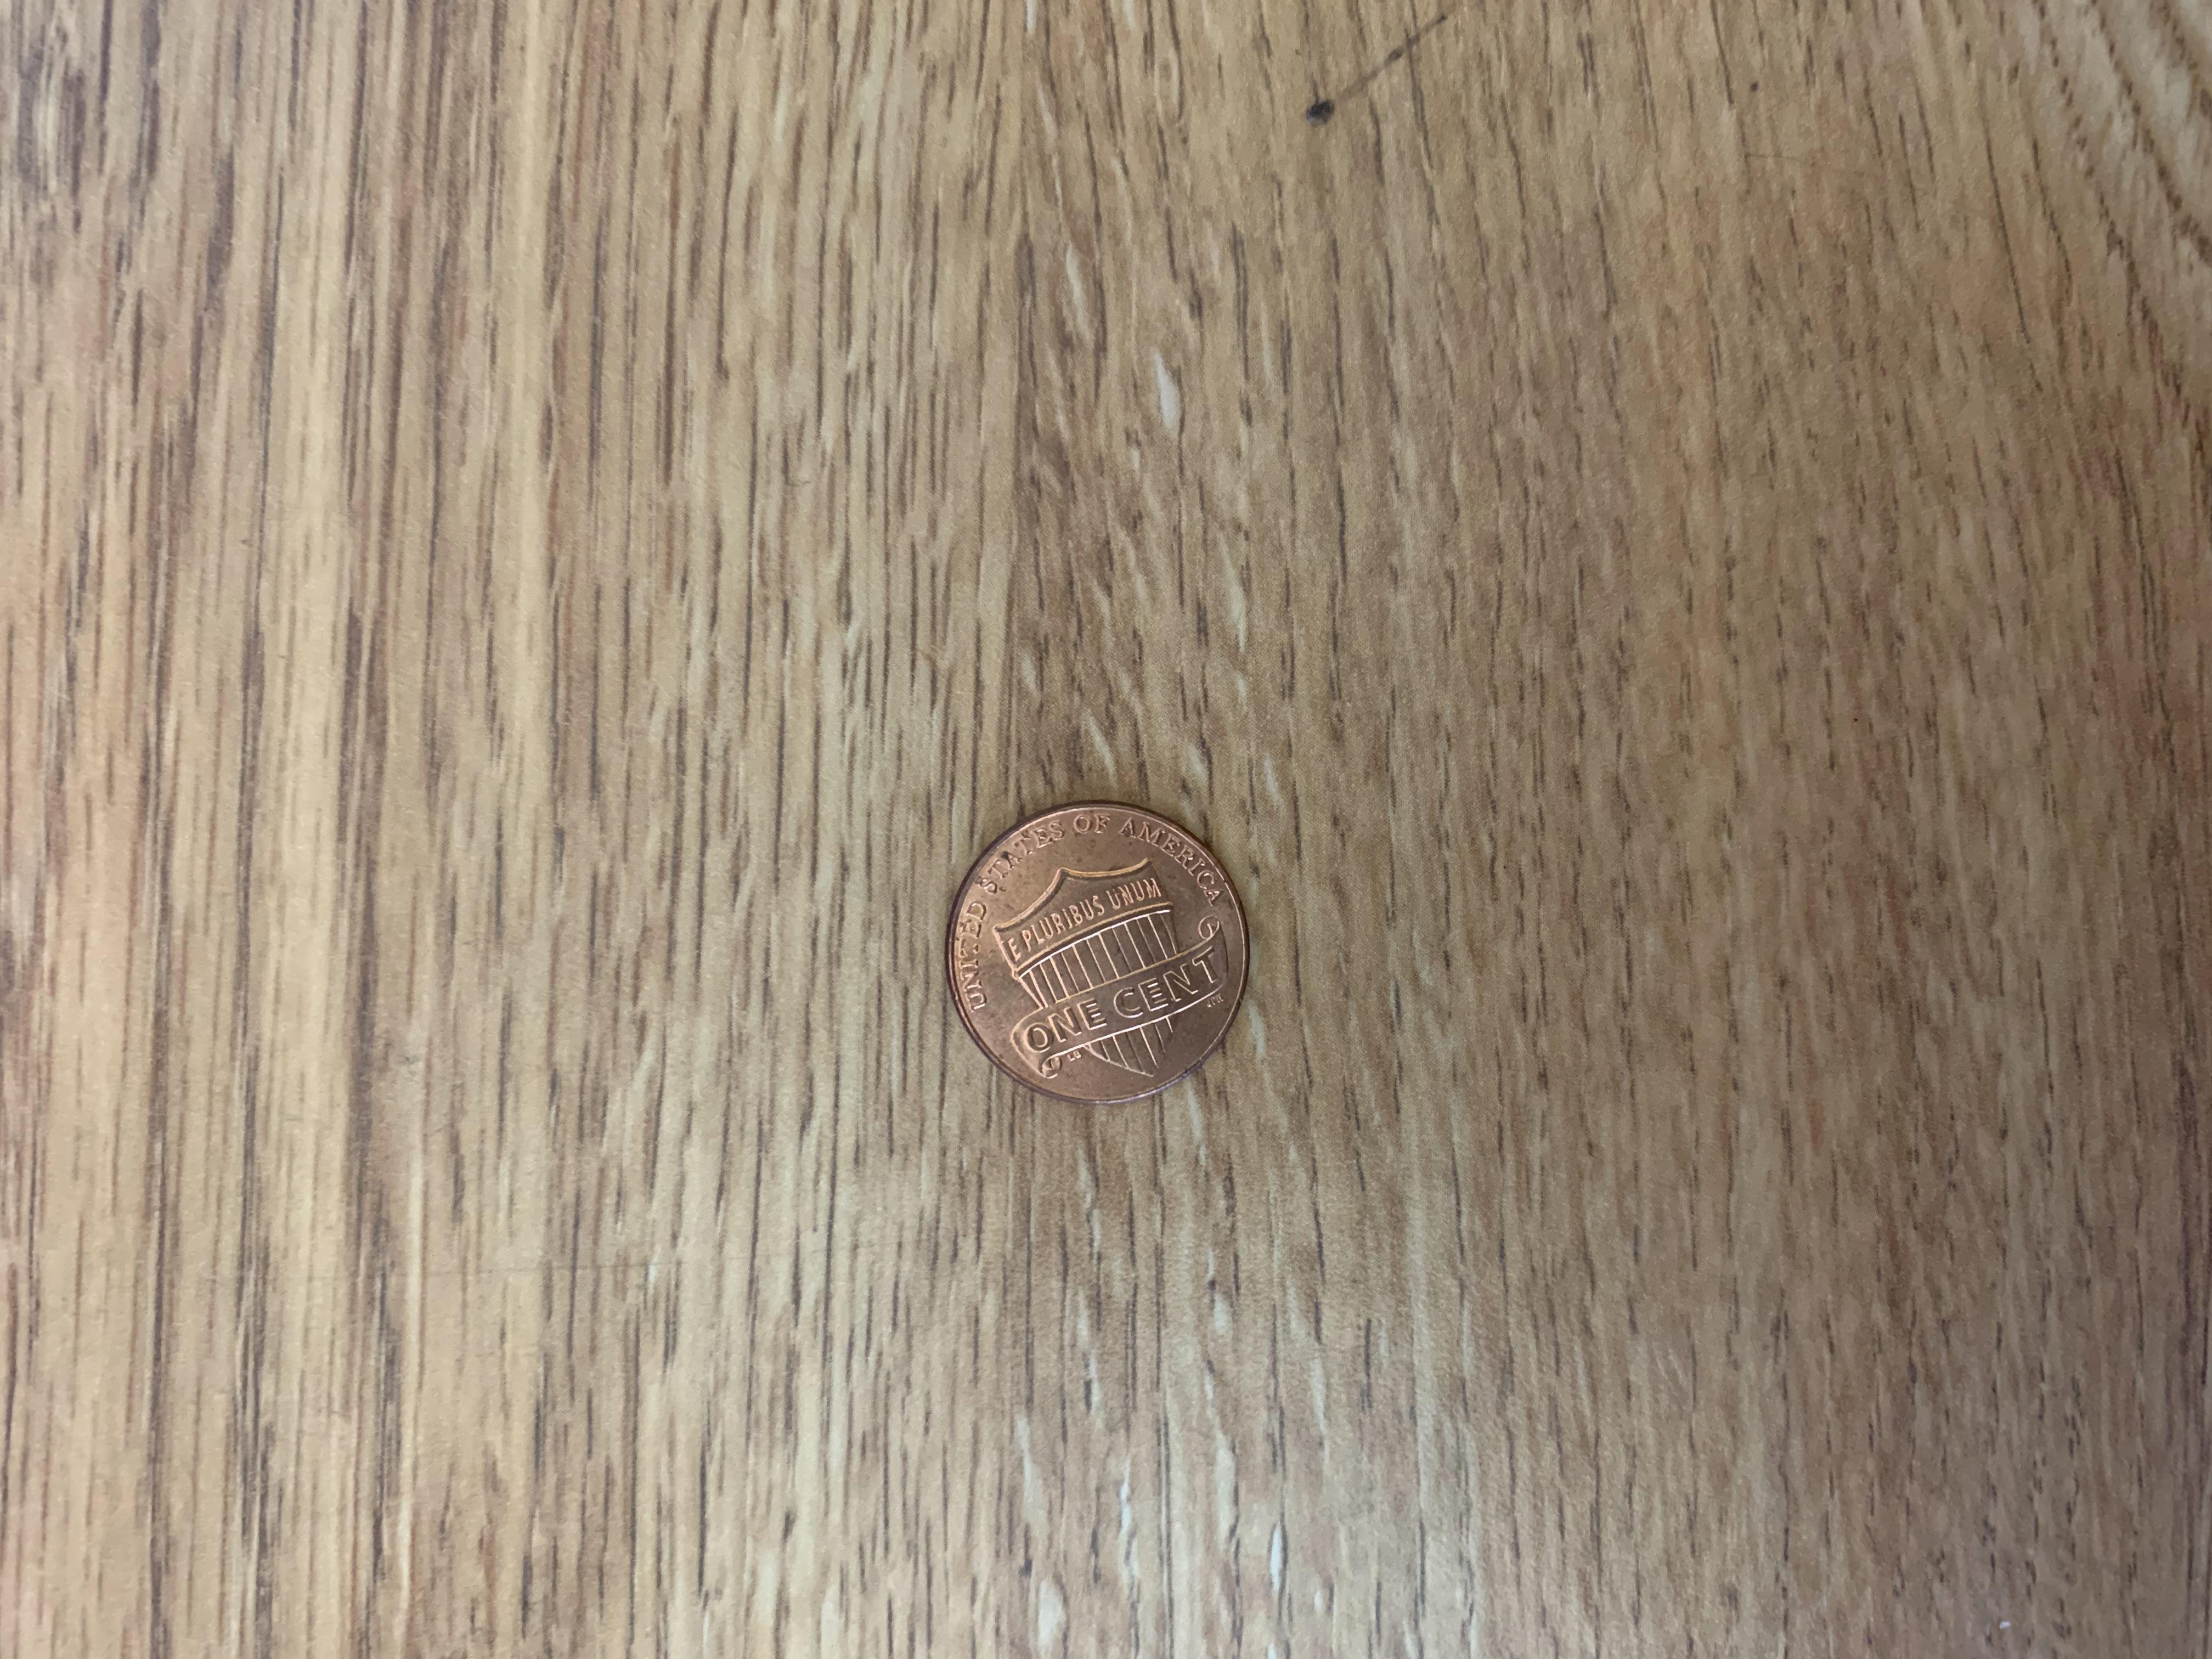Penny: (925, 788, 1261, 1122)
